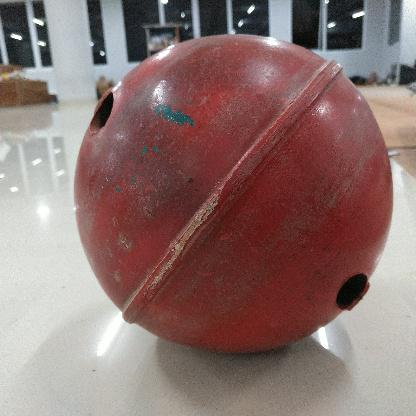red_buoy: (73, 32, 395, 356)
